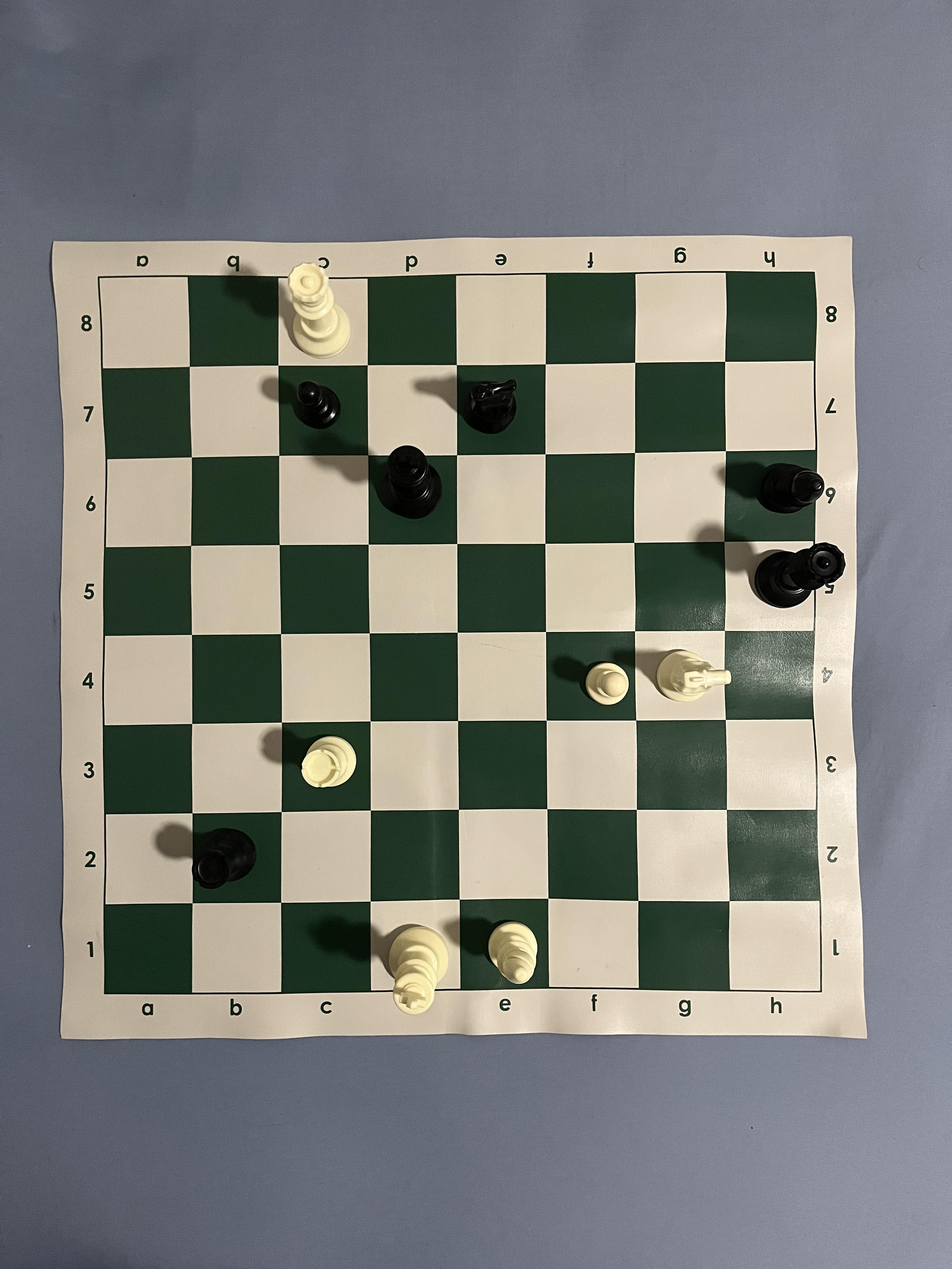black_bishop: (754, 462, 825, 514)
black_king: (375, 445, 443, 519)
black_knight: (461, 379, 518, 435)
black_pawn: (295, 381, 341, 430)
black_queen: (753, 542, 847, 610)
black_rook: (191, 828, 257, 890)
white_bishop: (488, 922, 539, 986)
white_king: (388, 924, 449, 1016)
white_knight: (656, 650, 733, 704)
white_pawn: (586, 662, 629, 706)
white_queen: (288, 262, 351, 358)
white_rook: (301, 736, 358, 789)
